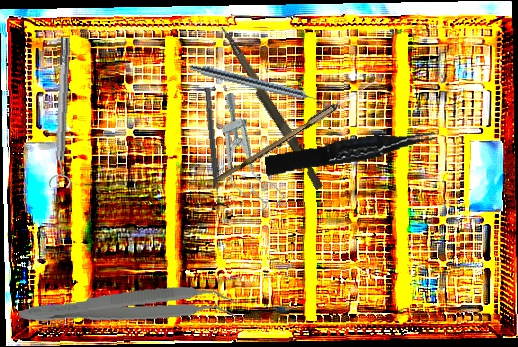Fixation Ring: (46, 36, 80, 189), (198, 86, 230, 211)
Handpiece: (188, 62, 330, 109)
Pusher: (213, 24, 328, 191)
Speculum: (199, 88, 289, 221)
Surgical Spoon: (217, 76, 378, 185)
Tissue Forceps: (17, 281, 239, 337), (263, 128, 438, 176)
